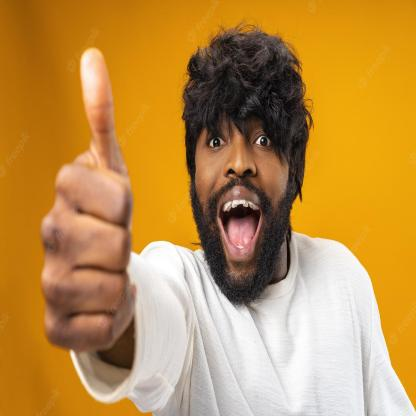Thumbs-Up: (39, 45, 136, 353)
